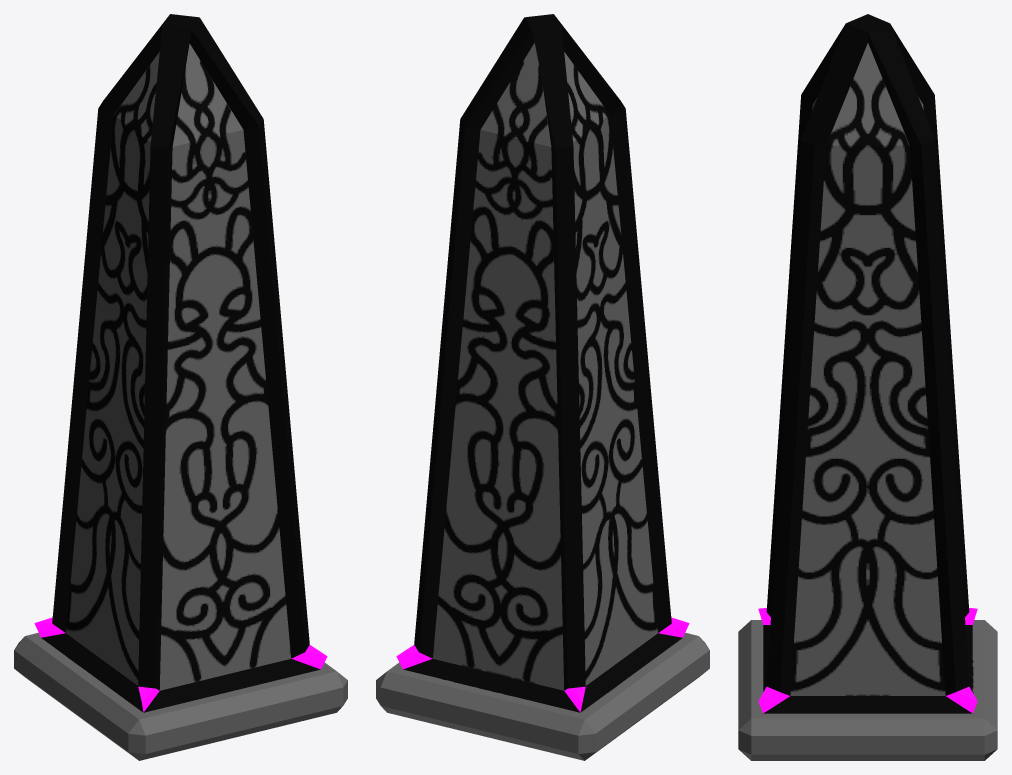
The model's file is stone 4.fbx.
3 views of the same model, side by side, from view 1: azimuth 30°, elevation 25°; view 2: azimuth 150°, elevation 25°; view 3: azimuth 270°, elevation 25° (orthographic). The views are drawn at different scales.
Parts seen in each view (by area): view 1: stone 4; view 2: stone 4; view 3: stone 4.
Boxes of the visible parts, box(x1,y1,x2,y2) form: stone 4: box(14, 14, 347, 760); stone 4: box(376, 14, 709, 760); stone 4: box(738, 14, 997, 760).
Size of the model in its own units: 200 by 586 by 200.
